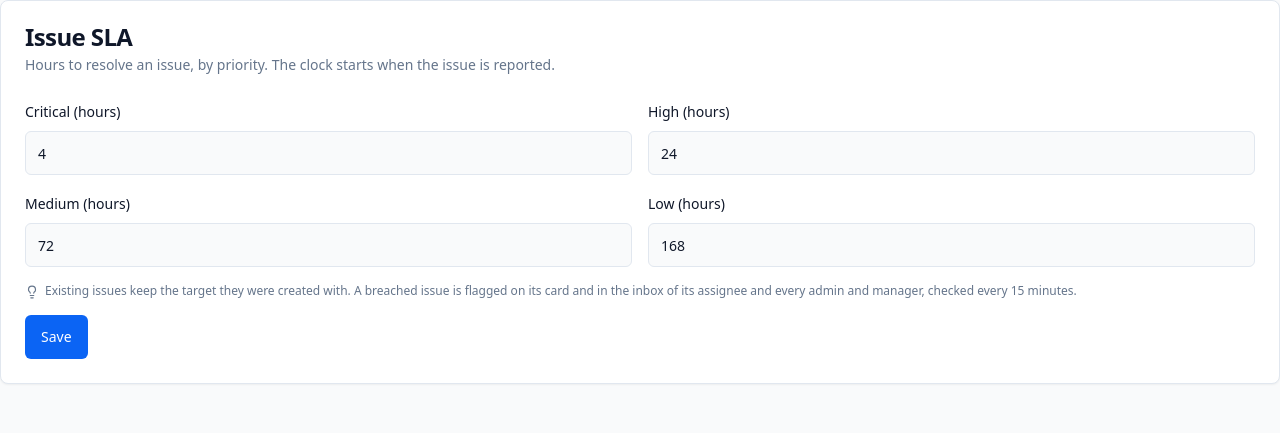
Test: SlaSettingsCard › rejects an out-of-range value and disables Save until it is fixed
The image size is (1280, 433).
Replace the text in the number field labelled "Critical (hours)" with "0": (328, 153) 25,131 -> 632,175
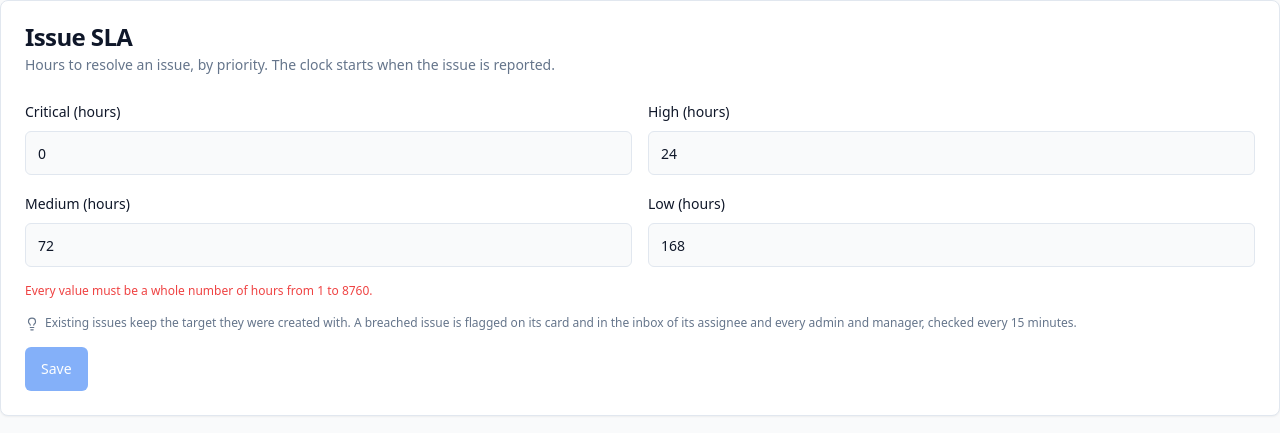
expect the text "Every value must be a whole number of hours from 1 to 8760." is shown: met, box 25,282 -> 373,299
expect the button "Save" is disabled: met, box 25,347 -> 88,391
Replace the text in the number field labelled "Critical (hours)" with "3": (328, 153) 25,131 -> 632,175
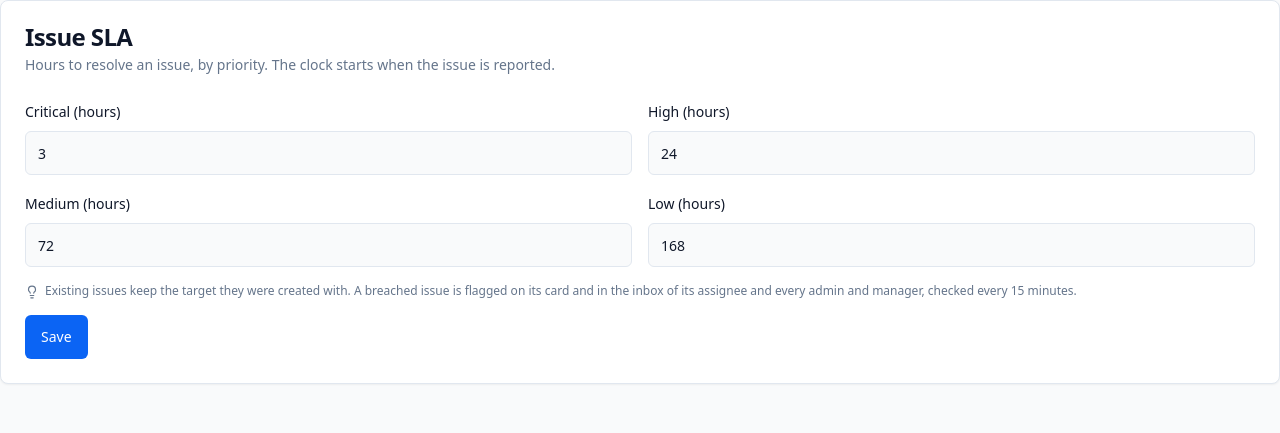
expect the text "whole number of hours" is gone: met
expect the button "Save" is enabled: met, box 25,315 -> 88,359
